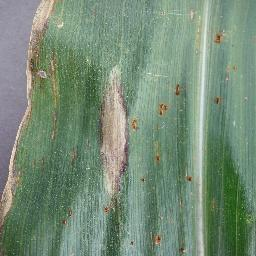Corn_Blight: (95, 60, 134, 213), (0, 113, 29, 228), (15, 36, 47, 114), (48, 44, 61, 144), (28, 0, 65, 35), (189, 3, 206, 56), (156, 98, 173, 127), (61, 207, 77, 233), (68, 146, 83, 173), (151, 136, 165, 164), (173, 78, 187, 100), (131, 115, 141, 142), (212, 30, 227, 46), (149, 233, 166, 247), (228, 62, 242, 78), (211, 94, 228, 107), (183, 174, 195, 189), (125, 236, 140, 247), (176, 245, 190, 255), (139, 176, 148, 185)
